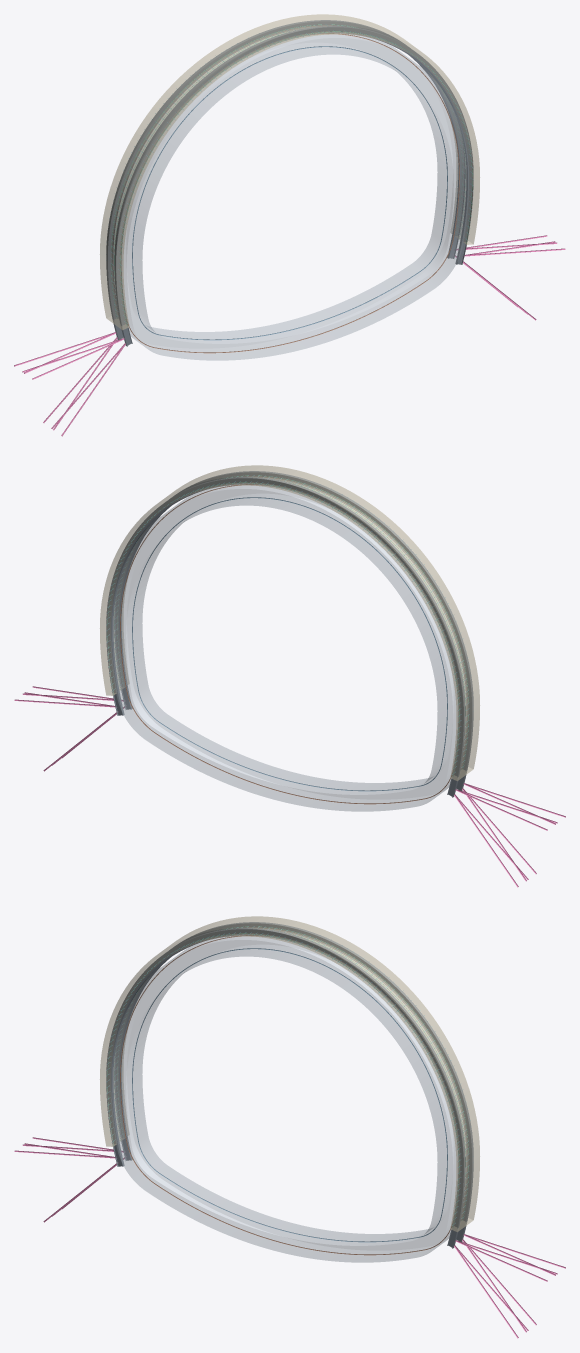
Rendered from ZZ-QJsx_support_1m.glb.
The picture shows the model from 3 angles, top to bottom: view 1: azimuth 30°, elevation 25°; view 2: azimuth 150°, elevation 25°; view 3: azimuth 330°, elevation 25°; orthographic projection.
Parts seen in each view (by area): view 1: secondaryLining, primarySupportConcrete, steelArch_002, steelArch_001, N2, N1, primaryMeshCircumferentialBars; view 2: secondaryLining, primarySupportConcrete, steelArch_001, steelArch_002, N2, N1, primaryMeshCircumferentialBars; view 3: secondaryLining, primarySupportConcrete, steelArch_002, steelArch_001, N2, N1, primaryMeshCircumferentialBars.
Part boxes in pixels (x1=…): secondaryLining: x1=114, y1=34, x2=469, y2=360; primarySupportConcrete: x1=100, y1=14, x2=479, y2=329; steelArch_002: x1=114, y1=26, x2=473, y2=346; steelArch_001: x1=106, y1=20, x2=465, y2=339; N2: x1=132, y1=46, x2=447, y2=340; N1: x1=128, y1=33, x2=459, y2=353; primaryMeshCircumferentialBars: x1=111, y1=24, x2=472, y2=325; secondaryLining: x1=110, y1=485, x2=465, y2=811; primarySupportConcrete: x1=100, y1=465, x2=479, y2=780; steelArch_001: x1=106, y1=477, x2=465, y2=797; steelArch_002: x1=114, y1=471, x2=473, y2=790; N2: x1=132, y1=497, x2=447, y2=791; N1: x1=120, y1=484, x2=451, y2=804; primaryMeshCircumferentialBars: x1=107, y1=475, x2=468, y2=776; secondaryLining: x1=110, y1=936, x2=465, y2=1262; primarySupportConcrete: x1=100, y1=916, x2=479, y2=1231; steelArch_002: x1=106, y1=928, x2=465, y2=1248; steelArch_001: x1=114, y1=922, x2=473, y2=1241; N2: x1=132, y1=948, x2=447, y2=1242; N1: x1=120, y1=935, x2=451, y2=1255; primaryMeshCircumferentialBars: x1=107, y1=926, x2=468, y2=1227.
Bounding box in the file's own units: 18.84 × 11.7 × 1.15.
